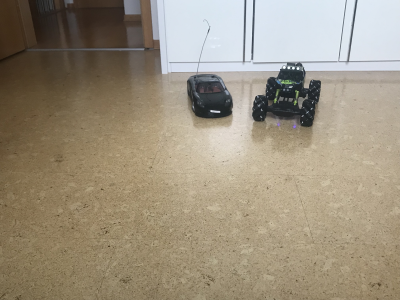remote control car: (248, 54, 324, 127)
